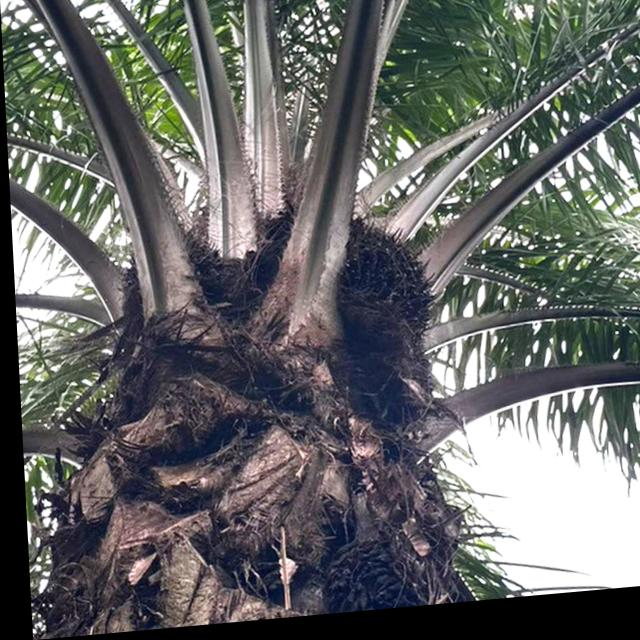unripe: (326, 221, 441, 361), (111, 208, 228, 316)
